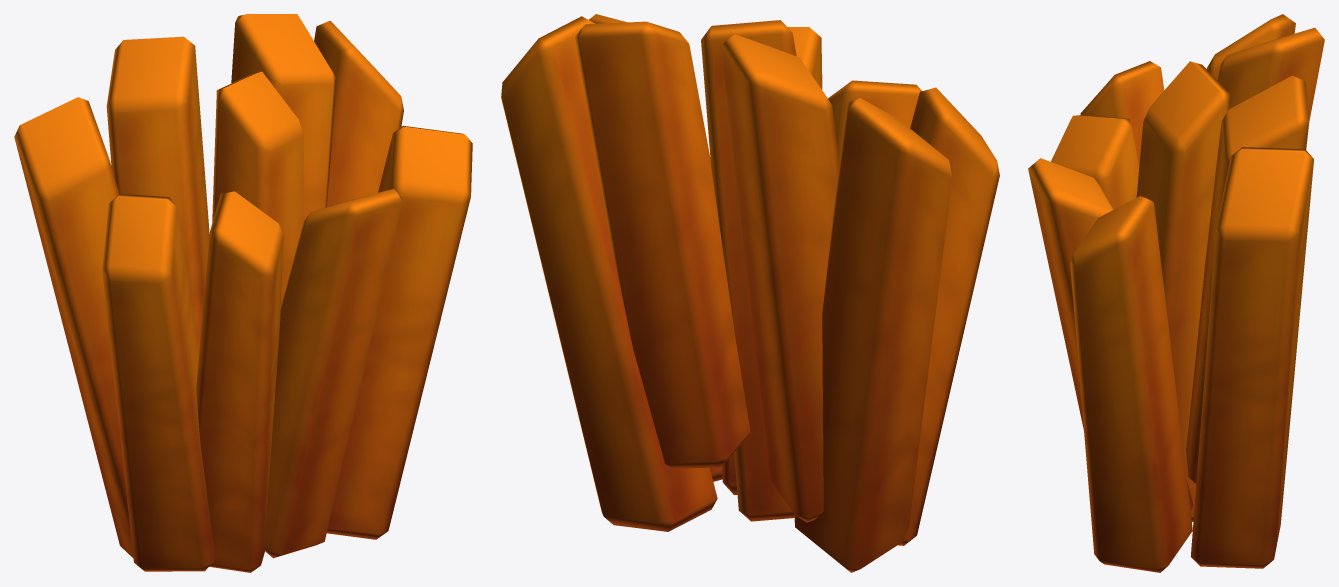
File: YamFries.fbx
3 renders of one model, left to right at view 1: azimuth 30°, elevation 25°; view 2: azimuth 150°, elevation 25°; view 3: azimuth 270°, elevation 25°, orthographic. The views are drawn at different scales.
Parts seen in each view (by area): view 1: YamFries; view 2: YamFries; view 3: YamFries.
Part boxes in pixels (box(x1,y1,x2,y2)): YamFries: box(14, 14, 472, 572); YamFries: box(501, 14, 999, 572); YamFries: box(1028, 14, 1324, 572).
Bounding box in the file's own units: 50.87 × 61.01 × 34.05.
